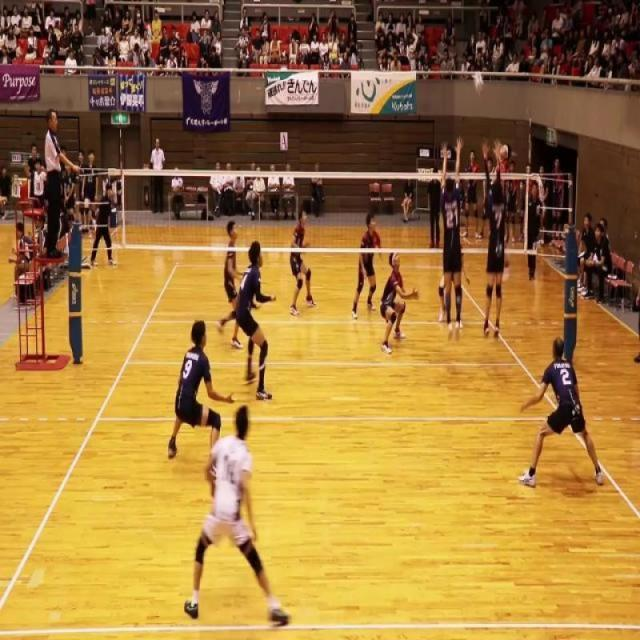volleyball: (473, 69, 484, 98)
